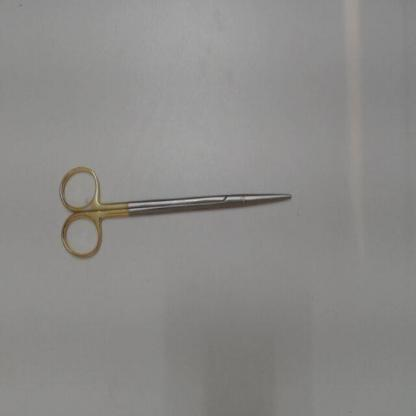7 Metzenbaum Scissors: (56, 160, 294, 262)
